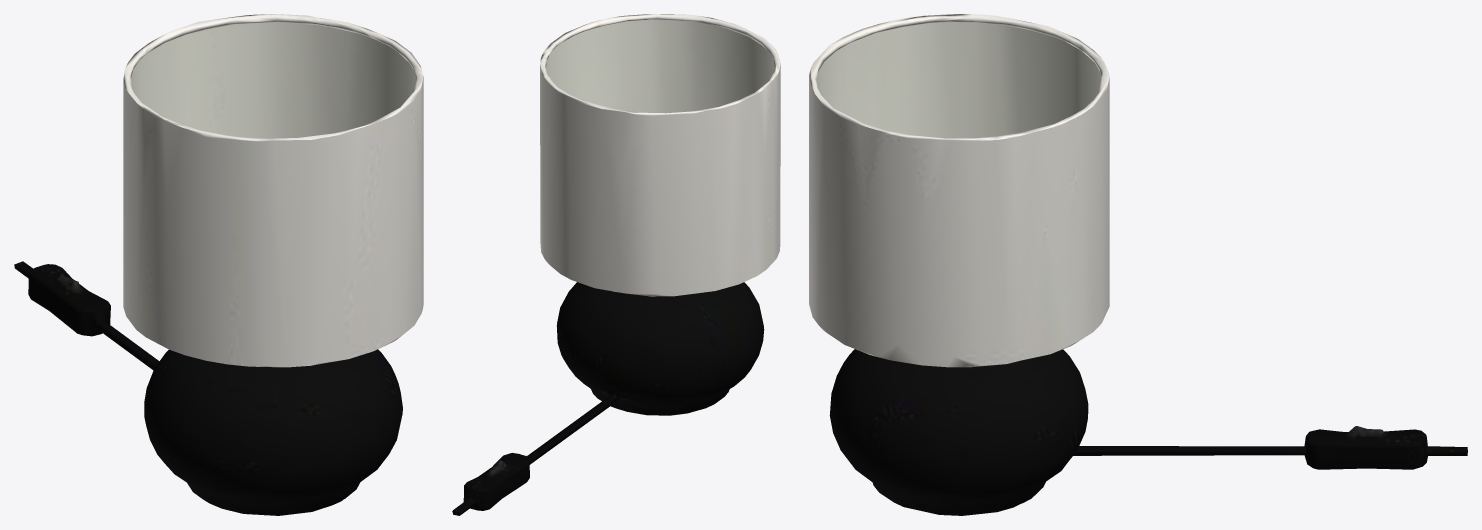
File: 28 - TVÄRFOT Table lamp - blackwhite.glb
The picture shows the model from 3 angles, left to right: view 1: azimuth 30°, elevation 25°; view 2: azimuth 150°, elevation 25°; view 3: azimuth 270°, elevation 25°; orthographic projection. The views are drawn at different scales.
Visible parts, largest first — view 1: ProcessedMeshNode; view 2: ProcessedMeshNode; view 3: ProcessedMeshNode.
Boxes of the visible parts, <box> form: ProcessedMeshNode: <box>14,14,423,515</box>; ProcessedMeshNode: <box>452,14,780,515</box>; ProcessedMeshNode: <box>809,14,1467,515</box>.
Bounding box in the file's own units: 0.1506 × 0.2236 × 0.3304.
Materials: 1 (1 with a texture image).
